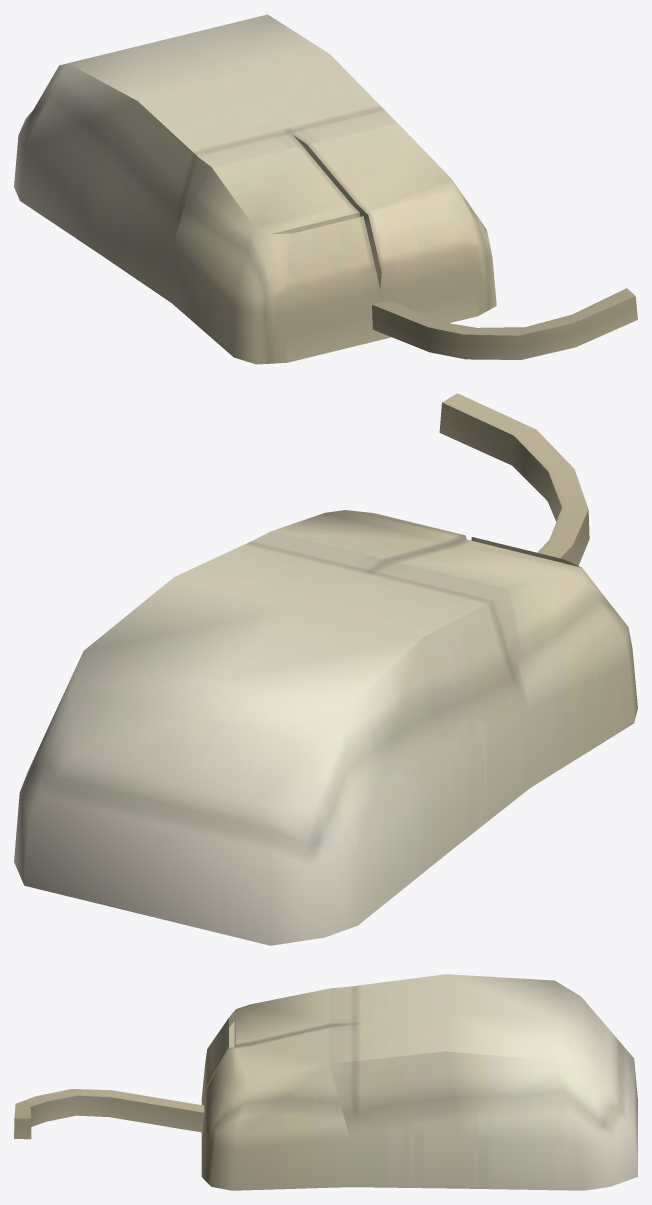
Rendered from Mouse_Relic.fbx.
The picture shows the model from 3 angles, top to bottom: view 1: azimuth 30°, elevation 25°; view 2: azimuth 150°, elevation 25°; view 3: azimuth 270°, elevation 25°; orthographic projection. The views are drawn at different scales.
Parts seen in each view (by area): view 1: Relic_Mouse; view 2: Relic_Mouse; view 3: Relic_Mouse.
Boxes of the visible parts, x1,y1,x2,y2 form: Relic_Mouse: (14, 14, 637, 364); Relic_Mouse: (14, 393, 637, 945); Relic_Mouse: (14, 974, 637, 1190).
Bounding box in the file's own units: 0.3336 × 0.1788 × 0.8036.
